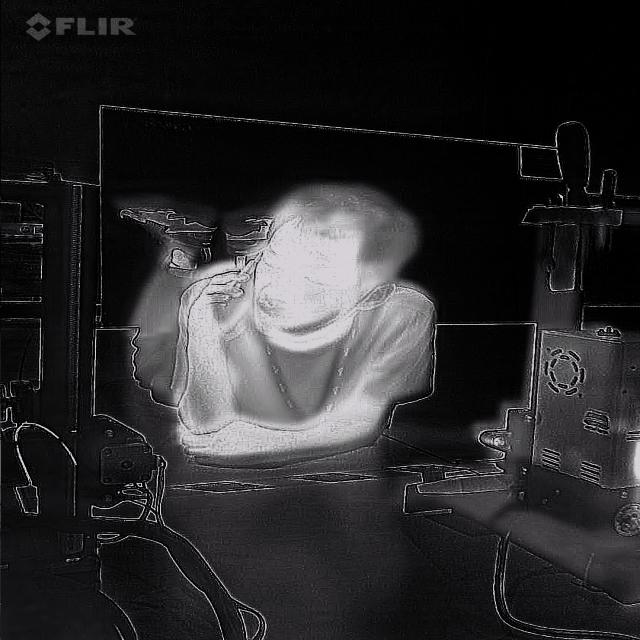Victim: (97, 166, 482, 465)
